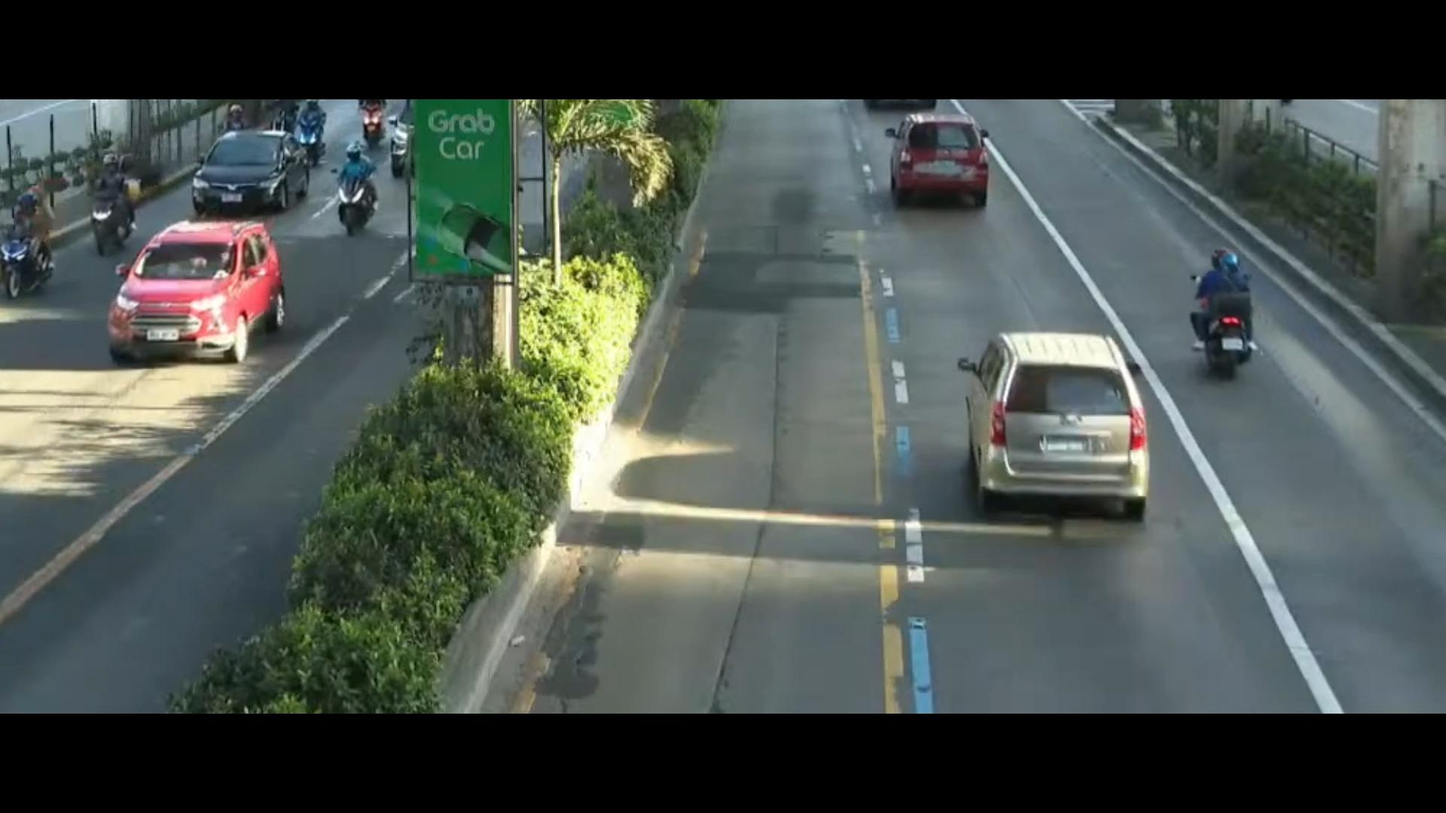Motorcycle: (1179, 215, 1289, 409), (84, 142, 157, 271), (0, 177, 57, 316), (328, 134, 383, 236), (288, 98, 332, 159), (360, 89, 393, 141), (388, 111, 408, 168)
SUV: (940, 315, 1167, 517), (86, 217, 302, 362), (881, 96, 1010, 215)
Sedan: (182, 115, 324, 217)
